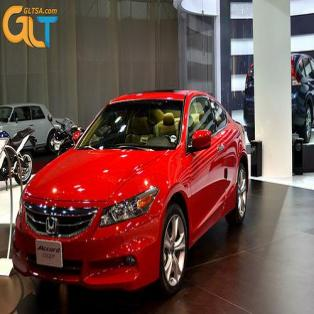Auto: (10, 94, 249, 298)
